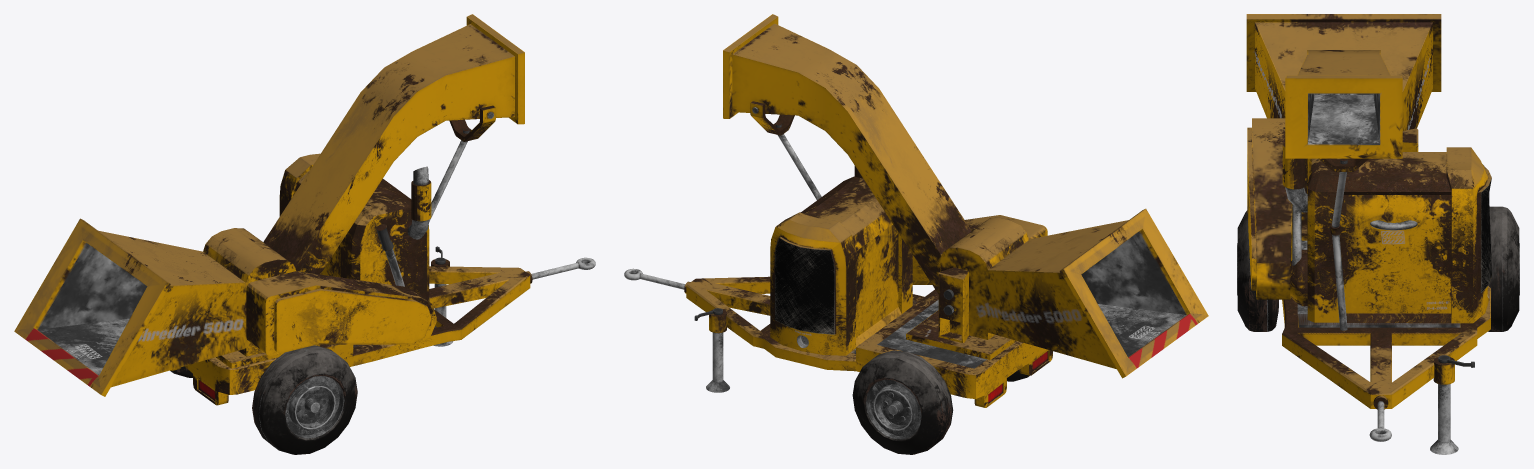
The picture shows the model from 3 angles, left to right: view 1: azimuth 30°, elevation 25°; view 2: azimuth 150°, elevation 25°; view 3: azimuth 270°, elevation 25°; orthographic projection. The views are drawn at different scales.
Parts seen in each view (by area): view 1: Object_3, Object_2, Object_5, Object_4, Object_6; view 2: Object_3, Object_2, Object_4, Object_5, Object_6; view 3: Object_3, Object_2, Object_4, Object_6, Object_5.
Boxes of the visible parts, x1,y1,x2,y2 form: Object_3: (33, 24, 514, 387); Object_2: (14, 14, 524, 396); Object_5: (170, 345, 357, 454); Object_4: (170, 266, 530, 405); Object_6: (376, 105, 595, 346); Object_3: (732, 23, 1190, 369); Object_2: (723, 14, 1208, 378); Object_4: (686, 276, 1052, 407); Object_5: (852, 350, 1029, 454); Object_6: (624, 101, 953, 392); Object_3: (1247, 22, 1491, 323); Object_2: (1246, 14, 1488, 323); Object_4: (1282, 240, 1490, 408); Object_6: (1282, 142, 1474, 454); Object_5: (1237, 206, 1519, 331).
Size of the model in its own units: 42.9 by 25.01 by 16.96.
4 materials, 4 textured.
